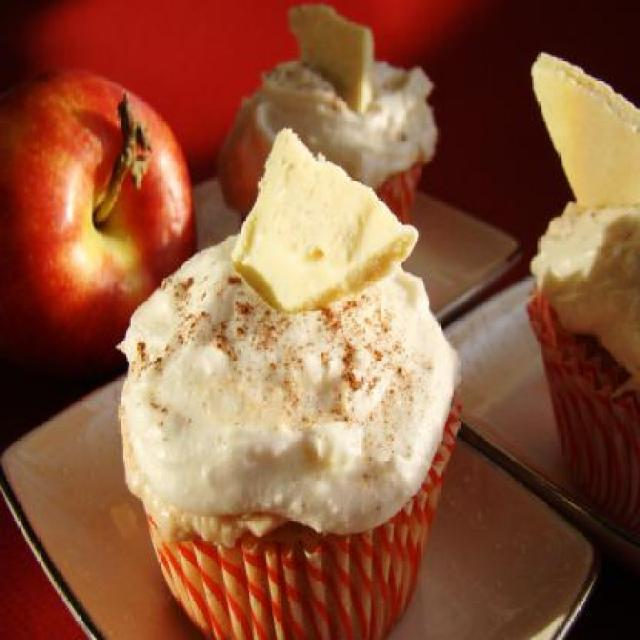Muffin: (120, 166, 466, 628), (526, 50, 640, 527), (216, 1, 441, 234)
